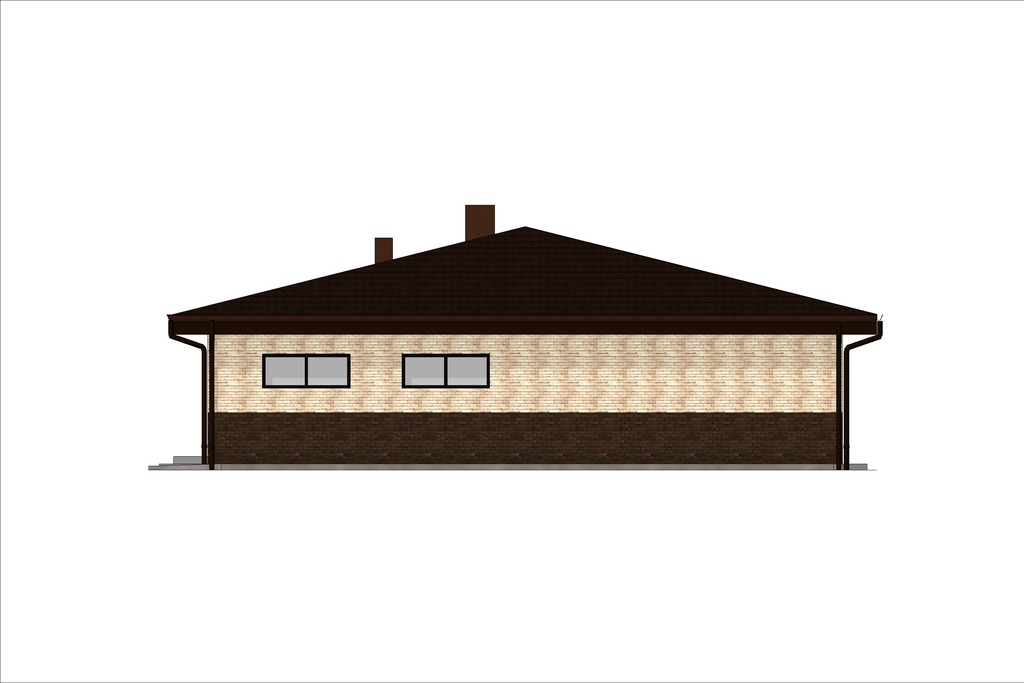window: (247, 341, 361, 397), (387, 341, 497, 397)
